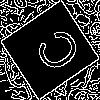C: (25, 25, 84, 81)
